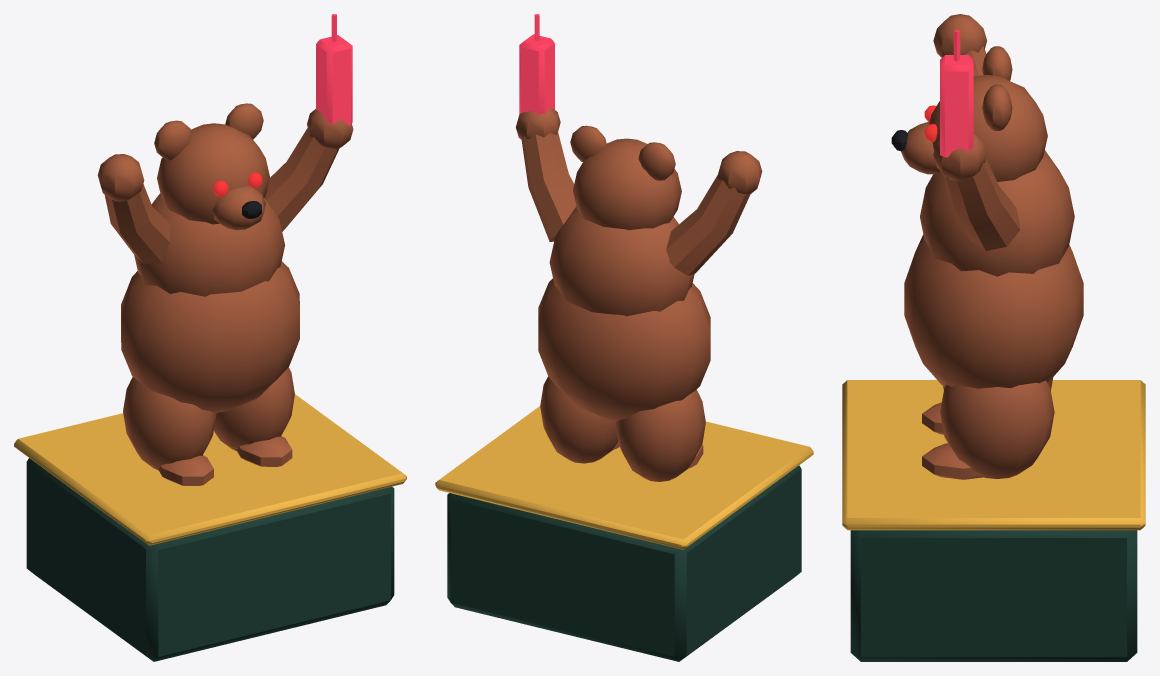
The model's file is ex_bear.glb.
3 renders of one model, left to right at view 1: azimuth 30°, elevation 25°; view 2: azimuth 150°, elevation 25°; view 3: azimuth 270°, elevation 25°, orthographic. The views are drawn at different scales.
Visible parts, largest first — view 1: ex_bear, fx_glow_candle; view 2: ex_bear, fx_glow_candle; view 3: ex_bear, fx_glow_candle.
Boxes of the visible parts, box(x1,y1,x2,y2) form: ex_bear: box(14, 103, 406, 661); fx_glow_candle: box(316, 14, 352, 125); ex_bear: box(435, 109, 813, 661); fx_glow_candle: box(519, 14, 554, 114); ex_bear: box(842, 14, 1145, 661); fx_glow_candle: box(940, 29, 973, 157).
Size of the model in its own units: 2 by 4.1 by 1.8.
2 materials, 2 textured.
